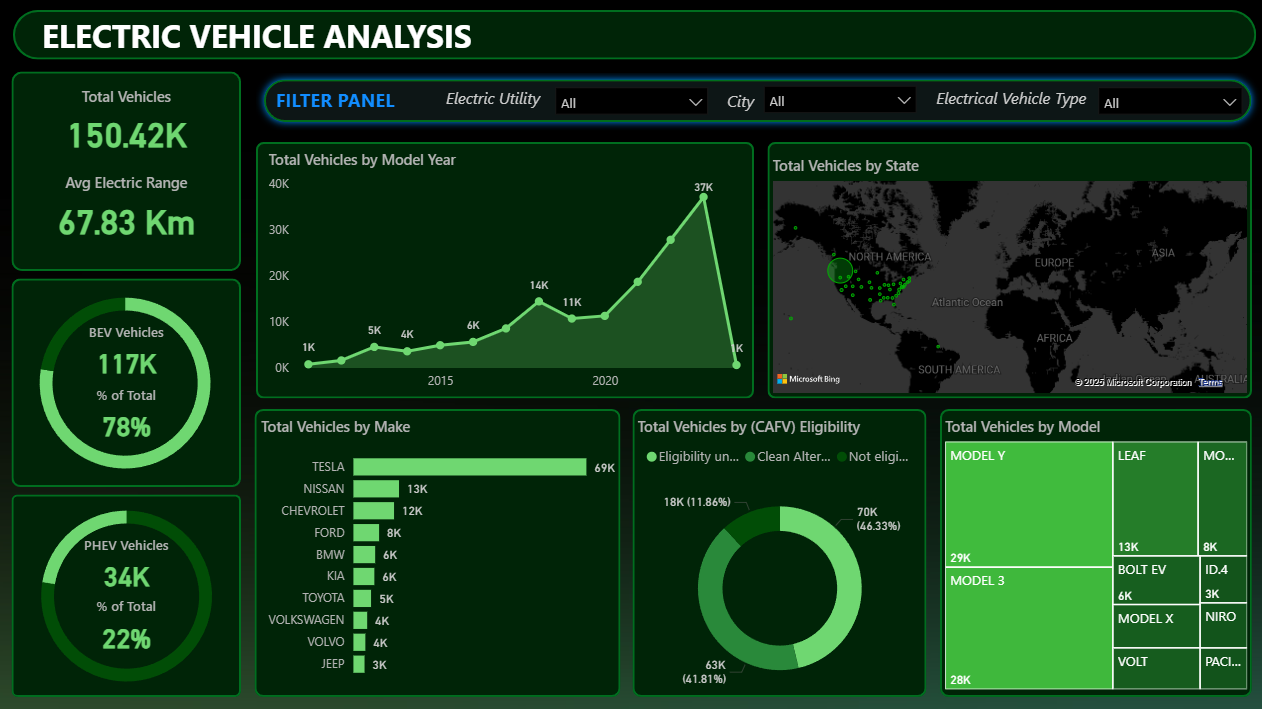

What the dashboard file says about the page in this screenshot:
{"tool":"powerbi","page":{"name":"Page 1","canvas":[1280,720],"ordinal":0},"visuals":[{"type":"shape","box":[15.1,12.1,1255,50],"z":0},{"type":"textbox","box":[39.7,11.3,470.6,64.3],"z":1000},{"type":"shape","box":[13.6,74.2,231.7,201.4],"z":2000},{"type":"card","title":"Total Vehicles","fields":{"Values":["Electric_Vehicle_Population_Data.Total Vehicles"]},"box":[13.6,89.3,231.7,71.2],"z":3000},{"type":"card","title":"Avg Electric Range","fields":{"Values":["Electric_Vehicle_Population_Data.Avg Range"]},"box":[13.6,175.6,231.7,75.7],"z":4000},{"type":"shape","box":[13.6,283.2,231.7,210.5],"z":5000},{"type":"shape","box":[13.6,501.2,231.7,204.4],"z":6000},{"type":"donutChart","fields":{"Y":["Electric_Vehicle_Population_Data.Total Vehicles"],"Category":["Electric_Vehicle_Population_Data.Electric Vehicle Type"]},"box":[0,275.6,255.9,225.6],"z":7000},{"type":"card","title":"BEV Vehicles","fields":{"Values":["Electric_Vehicle_Population_Data.BEV Vehicles"]},"box":[54.5,327.1,149.9,62.1],"z":8000},{"type":"card","title":"% of Total","fields":{"Values":["Electric_Vehicle_Population_Data.% of BEV"]},"box":[54.5,390.7,149.9,63.6],"z":9000},{"type":"donutChart","fields":{"Y":["Electric_Vehicle_Population_Data.Total Vehicles"],"Category":["Electric_Vehicle_Population_Data.Electric Vehicle Type"]},"box":[0,490.6,258.9,225.6],"z":10000},{"type":"card","title":"PHEV Vehicles","fields":{"Values":["Electric_Vehicle_Population_Data.PHEV Vehicles"]},"box":[54.5,542.1,149.9,62.1],"z":11000},{"type":"card","title":"% of Total","fields":{"Values":["Electric_Vehicle_Population_Data.% of PHEV"]},"box":[54.5,604.2,149.9,63.6],"z":12000},{"type":"shape","box":[260.4,74.2,1013,59],"z":13000},{"type":"shape","box":[260.4,145.4,502.7,258.9],"z":14000},{"type":"areaChart","fields":{"Category":["Electric_Vehicle_Population_Data.Model Year"],"Y":["Electric_Vehicle_Population_Data.Total Vehicles"]},"box":[268,152.9,495.1,251.4],"z":15000},{"type":"shape","box":[776.8,145.4,489.1,258.9],"z":16000},{"type":"map","fields":{"Category":["Electric_Vehicle_Population_Data.State"],"Size":["Electric_Vehicle_Population_Data.Total Vehicles"]},"box":[776.8,159,489.1,245.3],"z":17000},{"type":"shape","box":[258.9,414.9,369.5,290.7],"z":18000},{"type":"barChart","fields":{"Category":["Electric_Vehicle_Population_Data.Make"],"Y":["Electric_Vehicle_Population_Data.Total Vehicles"]},"box":[260.4,422.5,368,272.6],"z":19000},{"type":"shape","box":[640.5,414.9,296.8,290.7],"z":20000},{"type":"donutChart","title":"Total Vehicles by (CAFV) Eligibility","fields":{"Category":["Electric_Vehicle_Population_Data.Clean Alternative Fuel Vehicle (CAFV) Eligibility"],"Y":["Electric_Vehicle_Population_Data.Total Vehicles"]},"box":[640.5,422.5,296.8,296.8],"z":21000},{"type":"shape","box":[950.9,414.9,315,290.7],"z":22000},{"type":"treemap","fields":{"Group":["Electric_Vehicle_Population_Data.Model"],"Values":["Electric_Vehicle_Population_Data.Total Vehicles"]},"box":[950.9,422.5,315,280.1],"z":23000},{"type":"textbox","box":[275.6,84.8,156,43.9],"z":24000},{"type":"textbox","box":[710.2,87.8,78.7,36.3],"z":25000},{"type":"slicer","fields":{"Values":["Electric_Vehicle_Population_Data.City"]},"box":[763.2,78.7,174.1,45.4],"z":26000},{"type":"textbox","box":[431.5,84.8,136.3,36.3],"z":27000},{"type":"slicer","fields":{"Values":["Electric_Vehicle_Population_Data.Electric Vehicle Type"]},"box":[1100.8,80.3,165,45.4],"z":28000},{"type":"textbox","box":[937.3,84.8,171.1,36.3],"z":29000},{"type":"slicer","fields":{"Values":["Electric_Vehicle_Population_Data.Electric Utility"]},"box":[552.7,80.3,174.1,45.4],"z":30000}]}

Visuals, with their boxes in screenshot pixels (x1, y1, x2, y2), scaled from the page's 1280x720 canvas onto the 1262x709 screenshot:
shape: Rect(15, 12, 1252, 61)
textbox: Rect(39, 11, 503, 74)
shape: Rect(13, 73, 242, 271)
"Total Vehicles" card: Rect(13, 88, 242, 158)
"Avg Electric Range" card: Rect(13, 173, 242, 247)
shape: Rect(13, 279, 242, 486)
shape: Rect(13, 494, 242, 695)
donutChart - Electric_Vehicle_Population_Data.Total Vehicles x Electric_Vehicle_Population_Data.Electric Vehicle Type: Rect(0, 271, 252, 494)
"BEV Vehicles" card: Rect(54, 322, 202, 383)
"% of Total" card: Rect(54, 385, 202, 447)
donutChart - Electric_Vehicle_Population_Data.Total Vehicles x Electric_Vehicle_Population_Data.Electric Vehicle Type: Rect(0, 483, 255, 705)
"PHEV Vehicles" card: Rect(54, 534, 202, 595)
"% of Total" card: Rect(54, 595, 202, 658)
shape: Rect(257, 73, 1255, 131)
shape: Rect(257, 143, 752, 398)
areaChart - Electric_Vehicle_Population_Data.Model Year x Electric_Vehicle_Population_Data.Total Vehicles: Rect(264, 151, 752, 398)
shape: Rect(766, 143, 1248, 398)
map - Electric_Vehicle_Population_Data.State x Electric_Vehicle_Population_Data.Total Vehicles: Rect(766, 157, 1248, 398)
shape: Rect(255, 409, 620, 695)
barChart - Electric_Vehicle_Population_Data.Make x Electric_Vehicle_Population_Data.Total Vehicles: Rect(257, 416, 620, 684)
shape: Rect(631, 409, 924, 695)
"Total Vehicles by (CAFV) Eligibility" donutChart: Rect(631, 416, 924, 708)
shape: Rect(938, 409, 1248, 695)
treemap - Electric_Vehicle_Population_Data.Model x Electric_Vehicle_Population_Data.Total Vehicles: Rect(938, 416, 1248, 692)
textbox: Rect(272, 84, 426, 127)
textbox: Rect(700, 86, 778, 122)
slicer - Electric_Vehicle_Population_Data.City: Rect(752, 77, 924, 122)
textbox: Rect(425, 84, 560, 119)
slicer - Electric_Vehicle_Population_Data.Electric Vehicle Type: Rect(1085, 79, 1248, 124)
textbox: Rect(924, 84, 1093, 119)
slicer - Electric_Vehicle_Population_Data.Electric Utility: Rect(545, 79, 717, 124)
